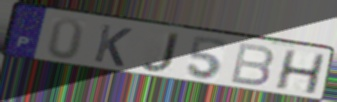0: (45, 16, 87, 61)
5: (187, 33, 231, 82)
B: (228, 41, 277, 89)
H: (272, 48, 328, 97)
J: (138, 32, 182, 74)
K: (91, 22, 134, 69)
